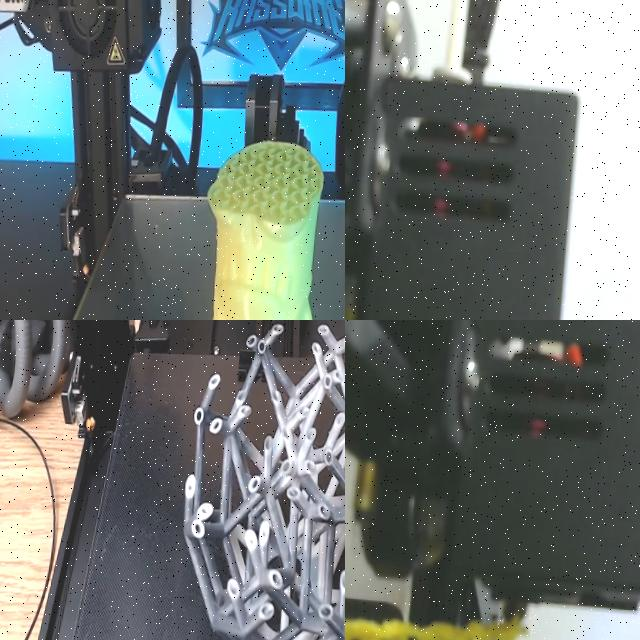spaghetti: (345, 619, 525, 640)
